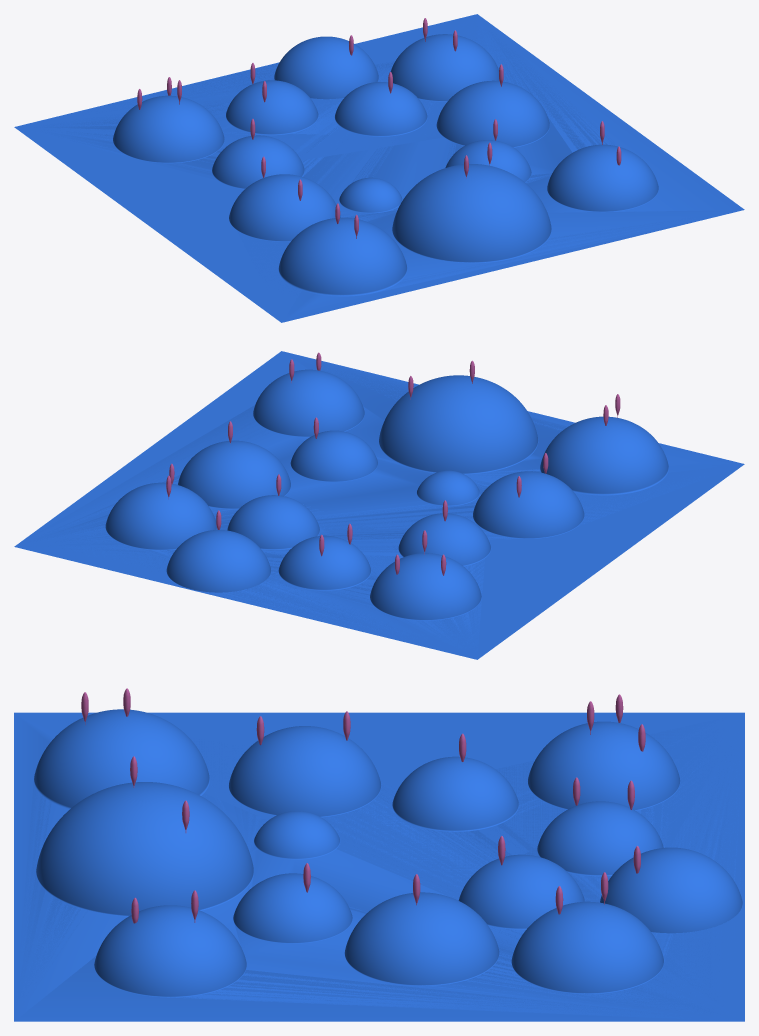
Rendered from Landscape_v5_lowpoly.fbx.
3 renders of one model, top to bottom at view 1: azimuth 30°, elevation 25°; view 2: azimuth 150°, elevation 25°; view 3: azimuth 270°, elevation 25°, orthographic. The views are drawn at different scales.
Parts seen in each view (by area): view 1: Ground; view 2: Ground; view 3: Ground.
Part boxes in pixels (<box>): Ground: <box>14,14,744,322</box>; Ground: <box>14,351,744,659</box>; Ground: <box>14,709,744,1021</box>.
Size of the model in its own units: 200 by 32.91 by 200.
